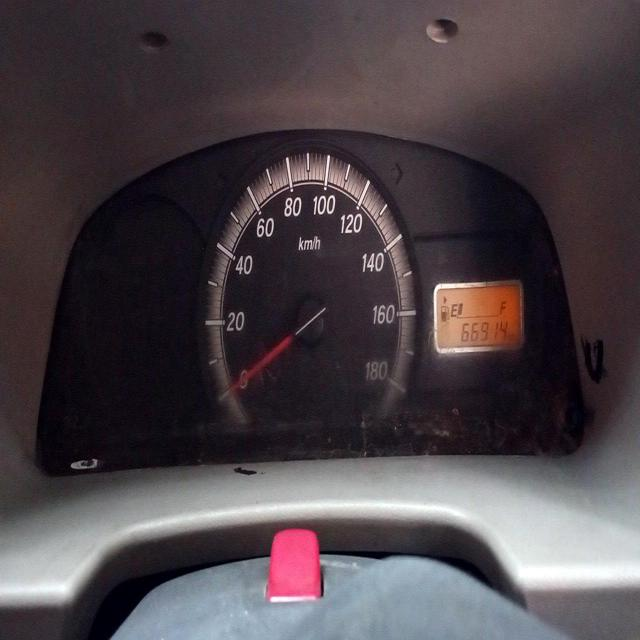odometer: (460, 319, 511, 352)
